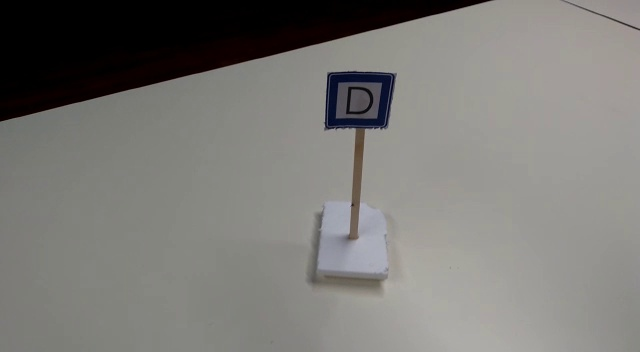durak: (326, 72, 394, 129)
